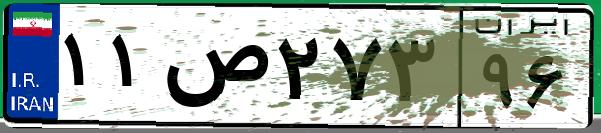1: (57, 26, 110, 100), (110, 28, 158, 98)
2: (270, 28, 330, 110)
3: (385, 28, 445, 110)
6: (525, 38, 570, 115)
7: (330, 28, 385, 110)
9: (475, 38, 525, 113)
ص: (158, 20, 270, 120)
